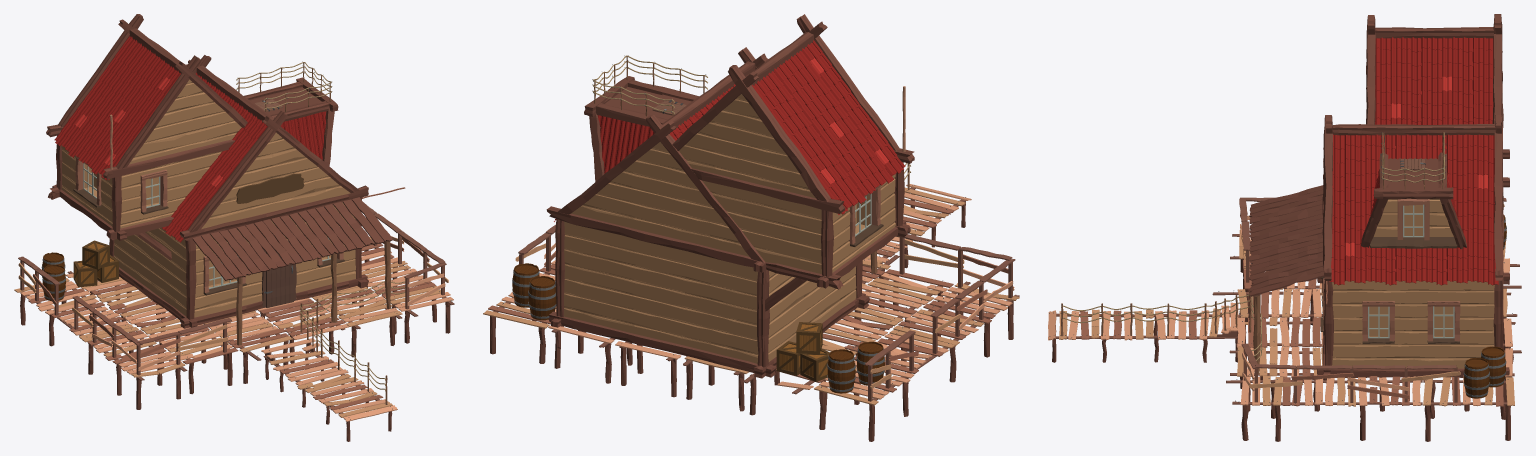
File: hause.glb
The picture shows the model from 3 angles, left to right: view 1: azimuth 30°, elevation 25°; view 2: azimuth 150°, elevation 25°; view 3: azimuth 270°, elevation 25°; orthographic projection. The views are drawn at different scales.
Visible parts, largest first — view 1: test.002; view 2: test.002; view 3: test.002.
Boxes of the visible parts, box(x1,y1,x2,y2) form: test.002: box(14, 14, 454, 441); test.002: box(483, 14, 1019, 441); test.002: box(1048, 14, 1521, 441).
Bounding box in the file's own units: 28.66 × 23.9 × 32.73.
